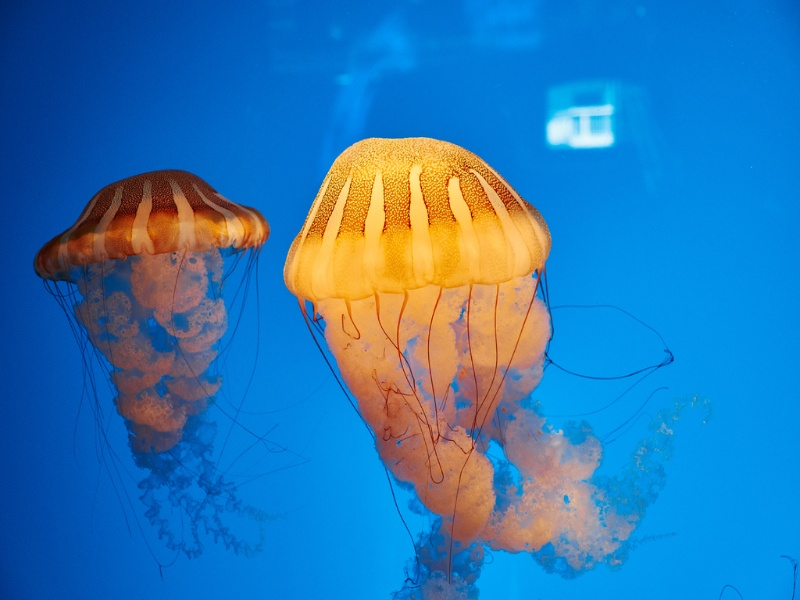Jellyfish: (281, 139, 706, 599), (31, 169, 332, 580)
